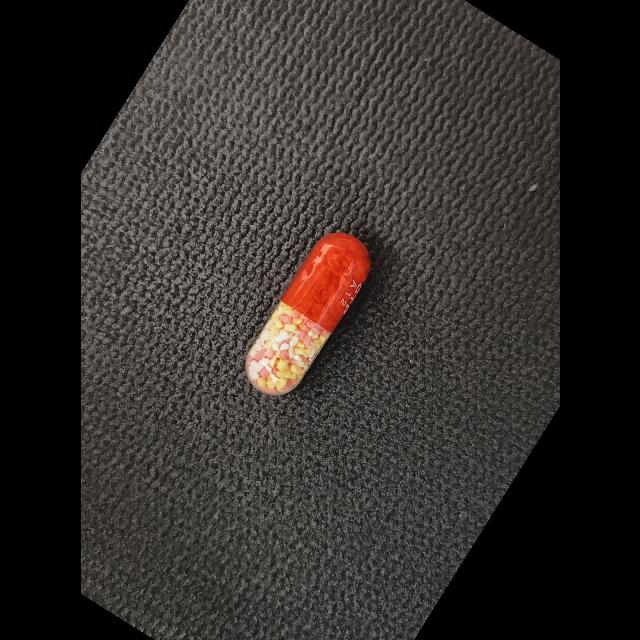Intact Capsule: (244, 233, 370, 395)
